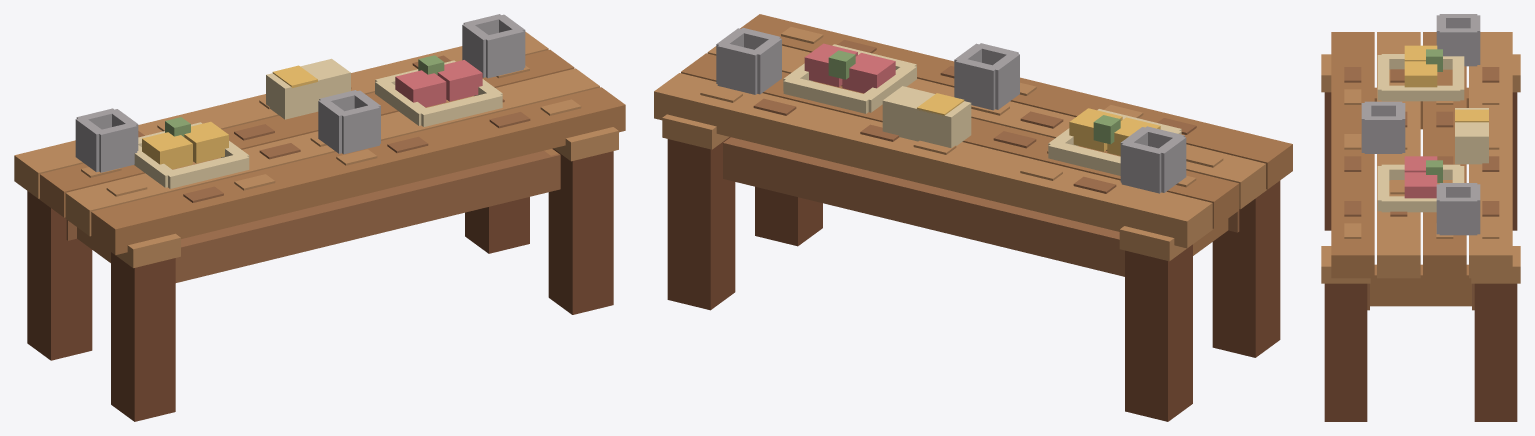
Rendered from FestivalTable_3x1.fbx.
3 views of the same model, side by side, from view 1: azimuth 30°, elevation 25°; view 2: azimuth 150°, elevation 25°; view 3: azimuth 270°, elevation 25° (orthographic). The views are drawn at different scales.
Visible parts, largest first — view 1: Wood tabletop plank, Long apron, Square timber leg, Square timber leg.002, Square timber leg.001, Wood tabletop plank.001, Wood tabletop plank.003, Wood tabletop plank.002, Bread loaf, Square timber leg.003, Cup wall.002, Cup wall.006 (+15 smaller); view 2: Wood tabletop plank.003, Long apron.001, Square timber leg.001, Square timber leg.003, Square timber leg, Wood tabletop plank, Wood tabletop plank.002, Wood tabletop plank.001, Bread loaf, Square timber leg.002, Cup wall.011, Cup wall.003 (+16 smaller); view 3: Wood tabletop plank, Wood tabletop plank.003, Square timber leg.002, Square timber leg.003, Wood tabletop plank.001, Wood tabletop plank.002, Short apron.001, Bread loaf, Cup wall.009, Cup wall.005, Square serving plate rim.001, Cup wall.001 (+43 smaller).
Boxes of the visible parts, bbox=[...] form: Wood tabletop plank: bbox=[91, 87, 625, 254]; Long apron: bbox=[175, 150, 560, 282]; Square timber leg: bbox=[111, 252, 175, 421]; Square timber leg.002: bbox=[548, 148, 613, 314]; Square timber leg.001: bbox=[27, 191, 92, 360]; Wood tabletop plank.001: bbox=[65, 68, 599, 236]; Wood tabletop plank.003: bbox=[14, 31, 548, 198]; Wood tabletop plank.002: bbox=[40, 49, 574, 217]; Bread loaf: bbox=[266, 58, 350, 119]; Square timber leg.003: bbox=[465, 197, 529, 253]; Cup wall.002: bbox=[99, 123, 137, 172]; Cup wall.006: bbox=[339, 105, 379, 154]; Wood tabletop plank.003: bbox=[654, 73, 1212, 248]; Long apron.001: bbox=[723, 137, 1124, 276]; Square timber leg.001: bbox=[1125, 244, 1192, 421]; Square timber leg.003: bbox=[667, 137, 735, 310]; Square timber leg: bbox=[1212, 180, 1280, 357]; Wood tabletop plank: bbox=[740, 14, 1292, 189]; Wood tabletop plank.002: bbox=[681, 53, 1239, 228]; Wood tabletop plank.001: bbox=[707, 45, 1265, 209]; Bread loaf: bbox=[882, 86, 971, 148]; Square timber leg.002: bbox=[755, 186, 822, 246]; Cup wall.011: bbox=[717, 42, 760, 94]; Cup wall.003: bbox=[1121, 142, 1162, 193]; Wood tabletop plank: bbox=[1331, 32, 1374, 278]; Wood tabletop plank.003: bbox=[1469, 32, 1512, 278]; Square timber leg.002: bbox=[1324, 283, 1367, 421]; Square timber leg.003: bbox=[1474, 283, 1517, 421]; Wood tabletop plank.001: bbox=[1377, 32, 1420, 278]; Wood tabletop plank.002: bbox=[1423, 32, 1466, 278]; Short apron.001: bbox=[1370, 264, 1471, 306]; Bread loaf: bbox=[1455, 108, 1488, 164]; Cup wall.009: bbox=[1439, 197, 1477, 235]; Cup wall.005: bbox=[1364, 116, 1402, 153]; Square serving plate rim.001: bbox=[1381, 85, 1460, 101]; Cup wall.001: bbox=[1439, 28, 1477, 66].
Size of the model in its own units: 310 by 136 by 117.
